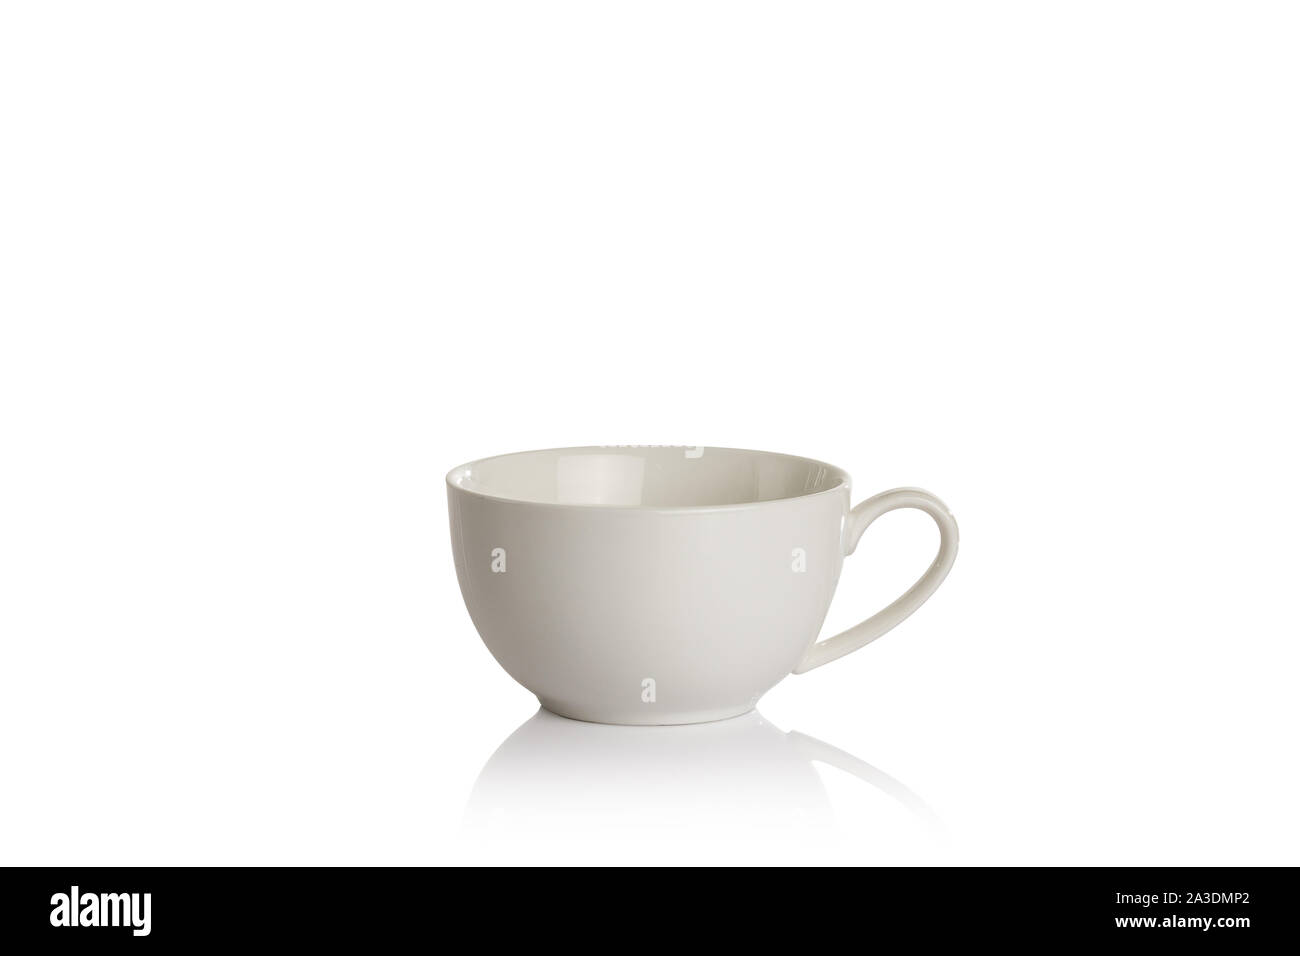cup: (443, 441, 967, 729)
